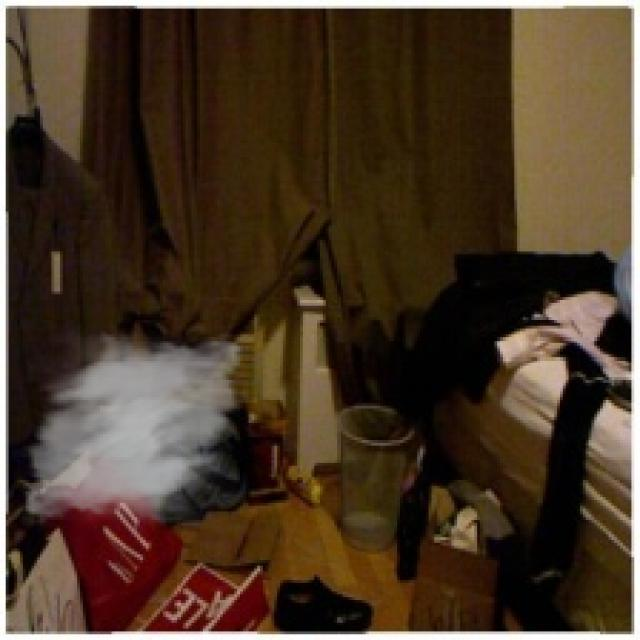smoke: (15, 317, 252, 534)
